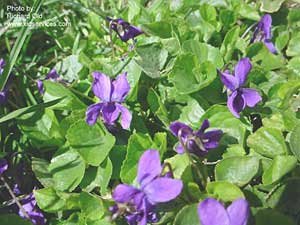violet: (90, 151, 176, 225), (79, 70, 134, 136), (209, 56, 265, 117), (170, 116, 227, 162)
